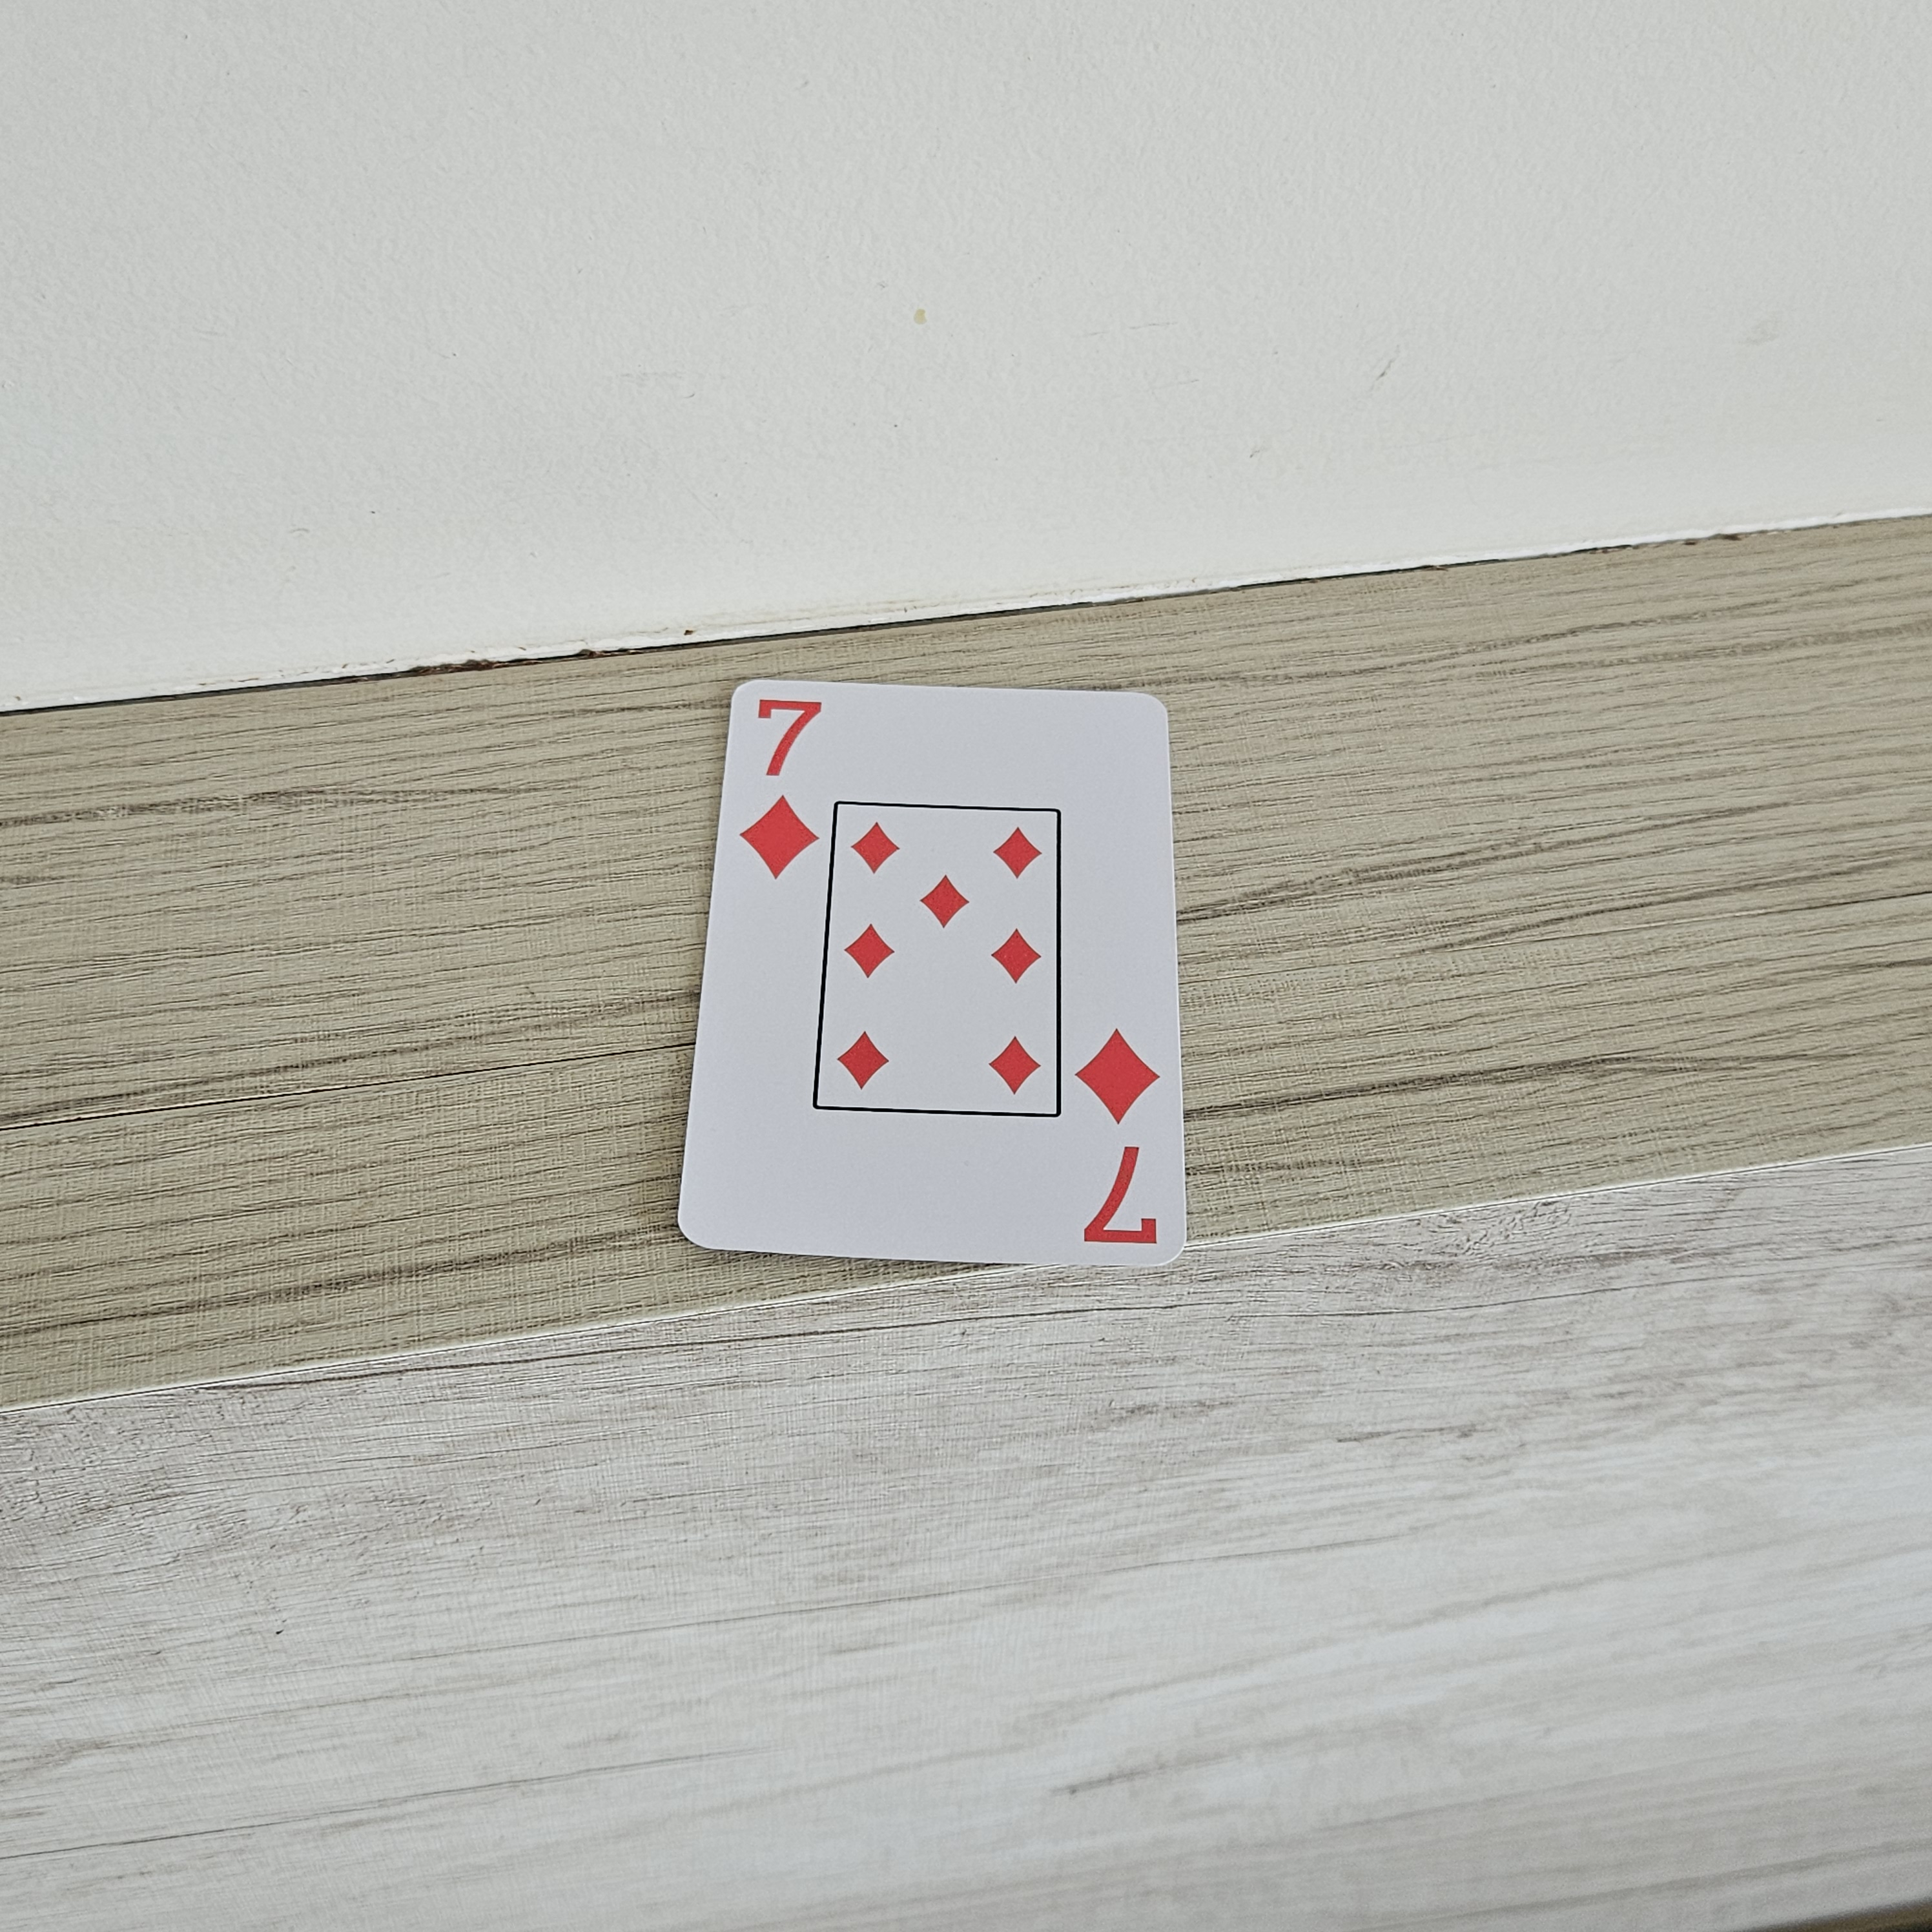7O: (1058, 1021, 1182, 1256), (731, 692, 833, 895)
